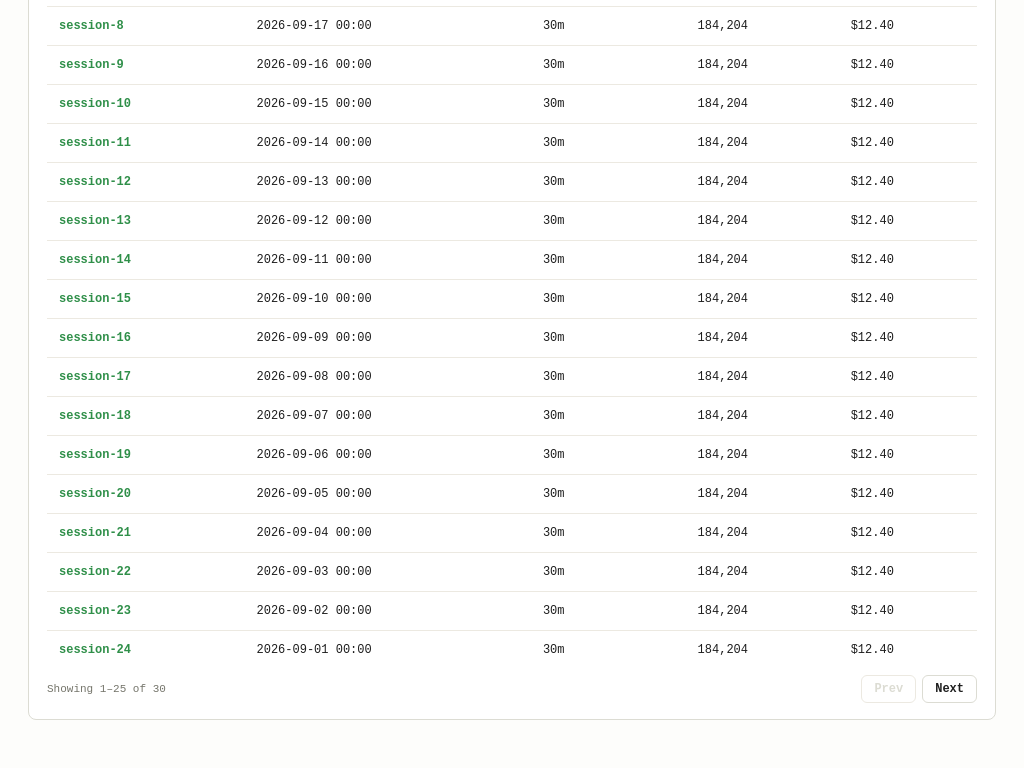
SessionsList › S2: paginates at 25 rows, Prev disabled on page 1, Next advances the page
(page scrolled)
Expected: the text with test id "pagination-count" reads "Showing 1–25 of 30", 47,681 -> 166,698
Expected: the button with test id "pagination-prev" is disabled, 861,675 -> 916,703
Click the button with test id "pagination-next" at [950, 689], box 922,675 -> 977,703
(page scrolled)
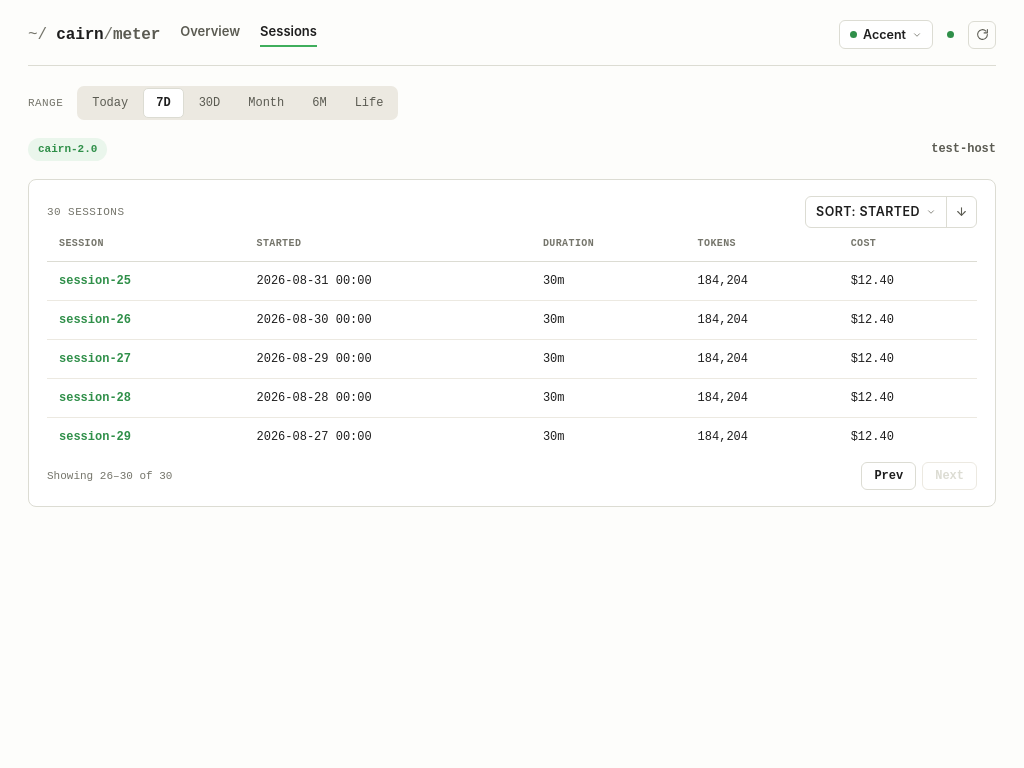
Expected: the text with test id "pagination-count" reads "Showing 26–30 of 30", 47,468 -> 172,484
Expected: the button with test id "pagination-next" is disabled, 922,462 -> 977,490
